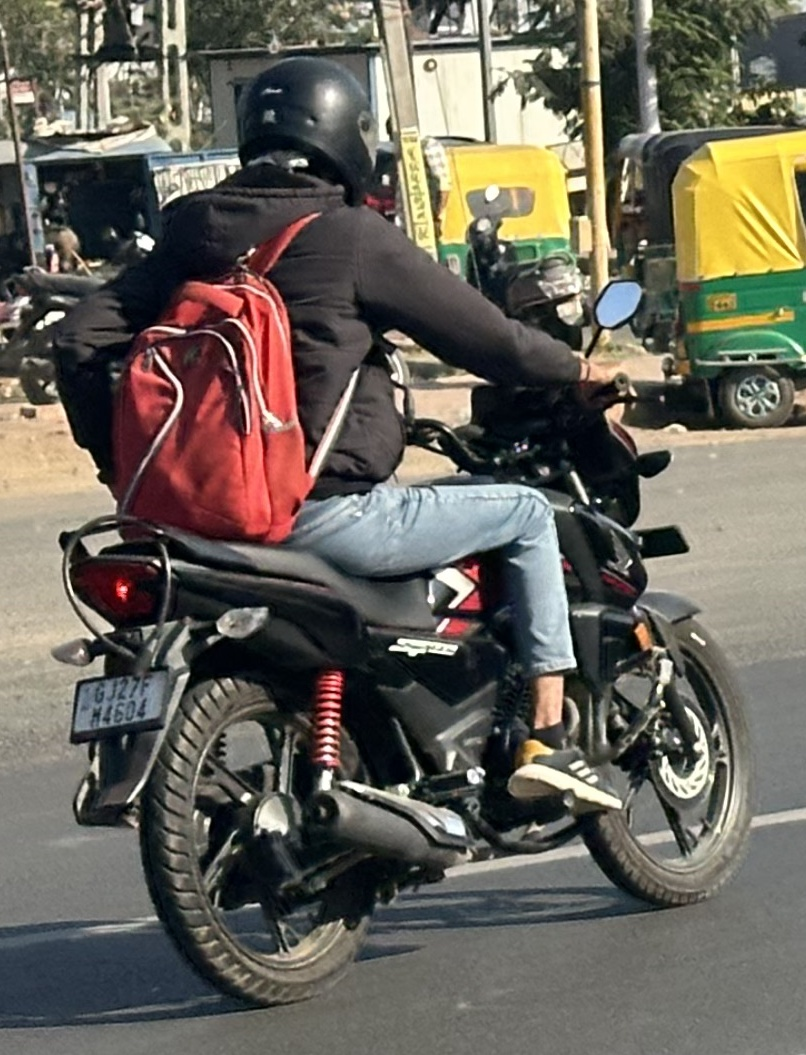BikeWithRider: (27, 41, 782, 1016)
Helmet: (214, 53, 400, 197)
